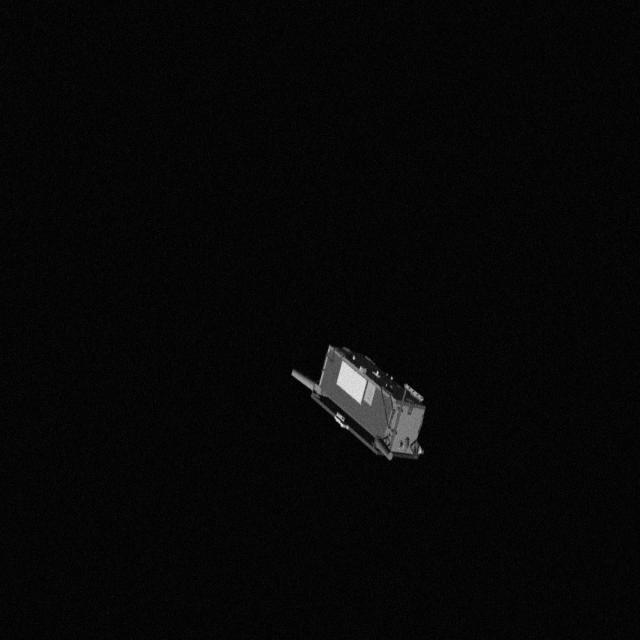medium_debris: (284, 338, 436, 468)
